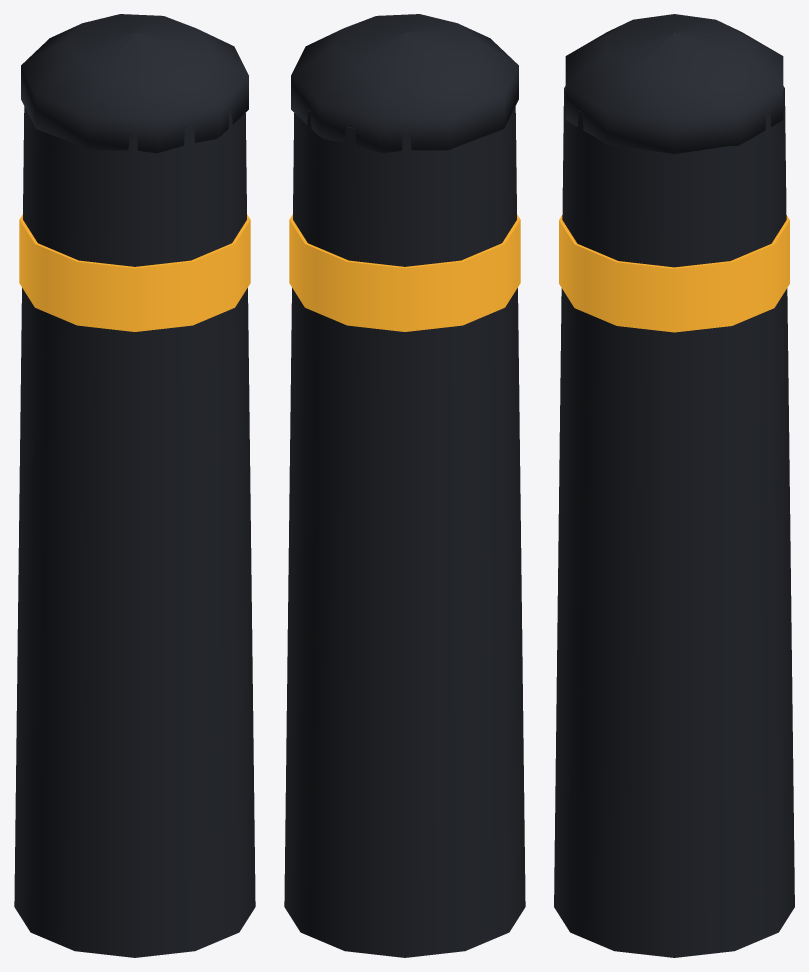
Rendered from prop_bollard.glb.
The picture shows the model from 3 angles, left to right: view 1: azimuth 30°, elevation 25°; view 2: azimuth 150°, elevation 25°; view 3: azimuth 270°, elevation 25°; orthographic projection.
Parts seen in each view (by area): view 1: Bollard; view 2: Bollard; view 3: Bollard.
Part boxes in pixels (bbox=[...]): Bollard: bbox=[14, 14, 255, 957]; Bollard: bbox=[284, 14, 525, 957]; Bollard: bbox=[554, 14, 794, 957].
Bounding box in the file's own units: 0.24 × 0.96 × 0.24.
